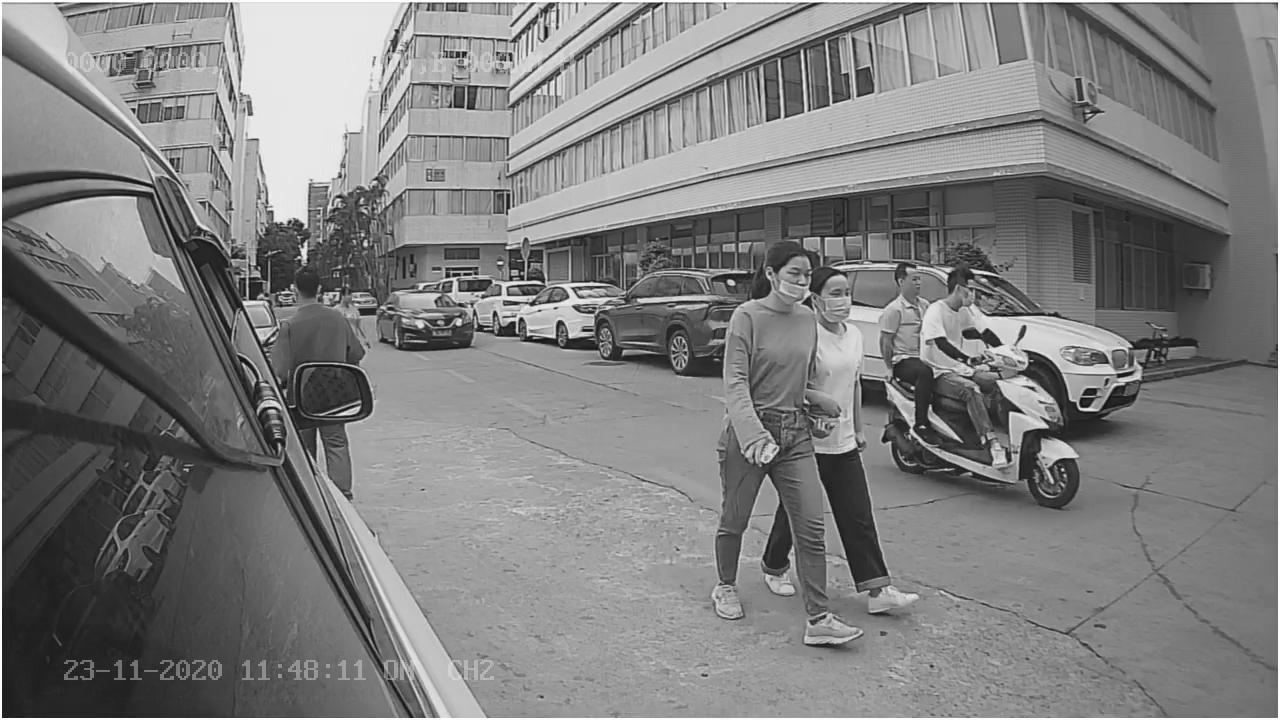person: (712, 229, 860, 642), (920, 254, 1004, 362)
